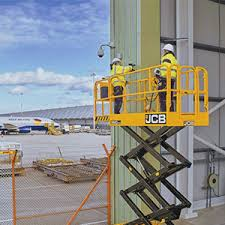Scissor Lift: (92, 62, 211, 225)
